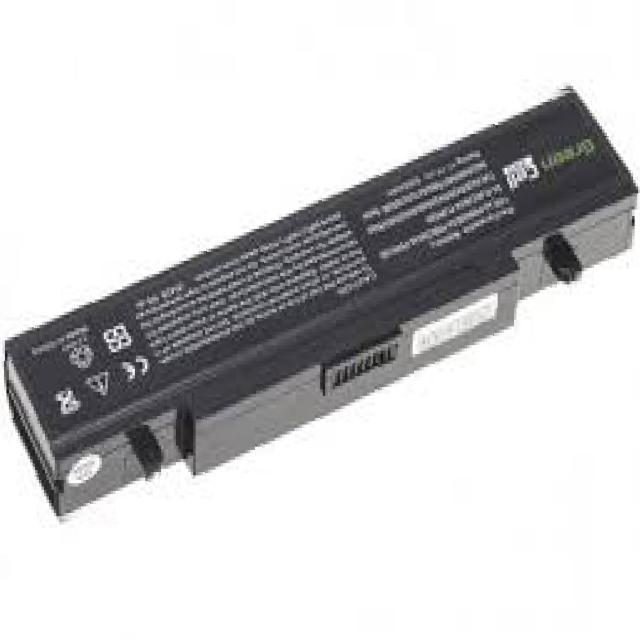Battery: (0, 78, 640, 520)
